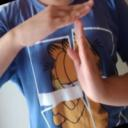hand: (12, 0, 95, 48), (66, 15, 102, 103)
